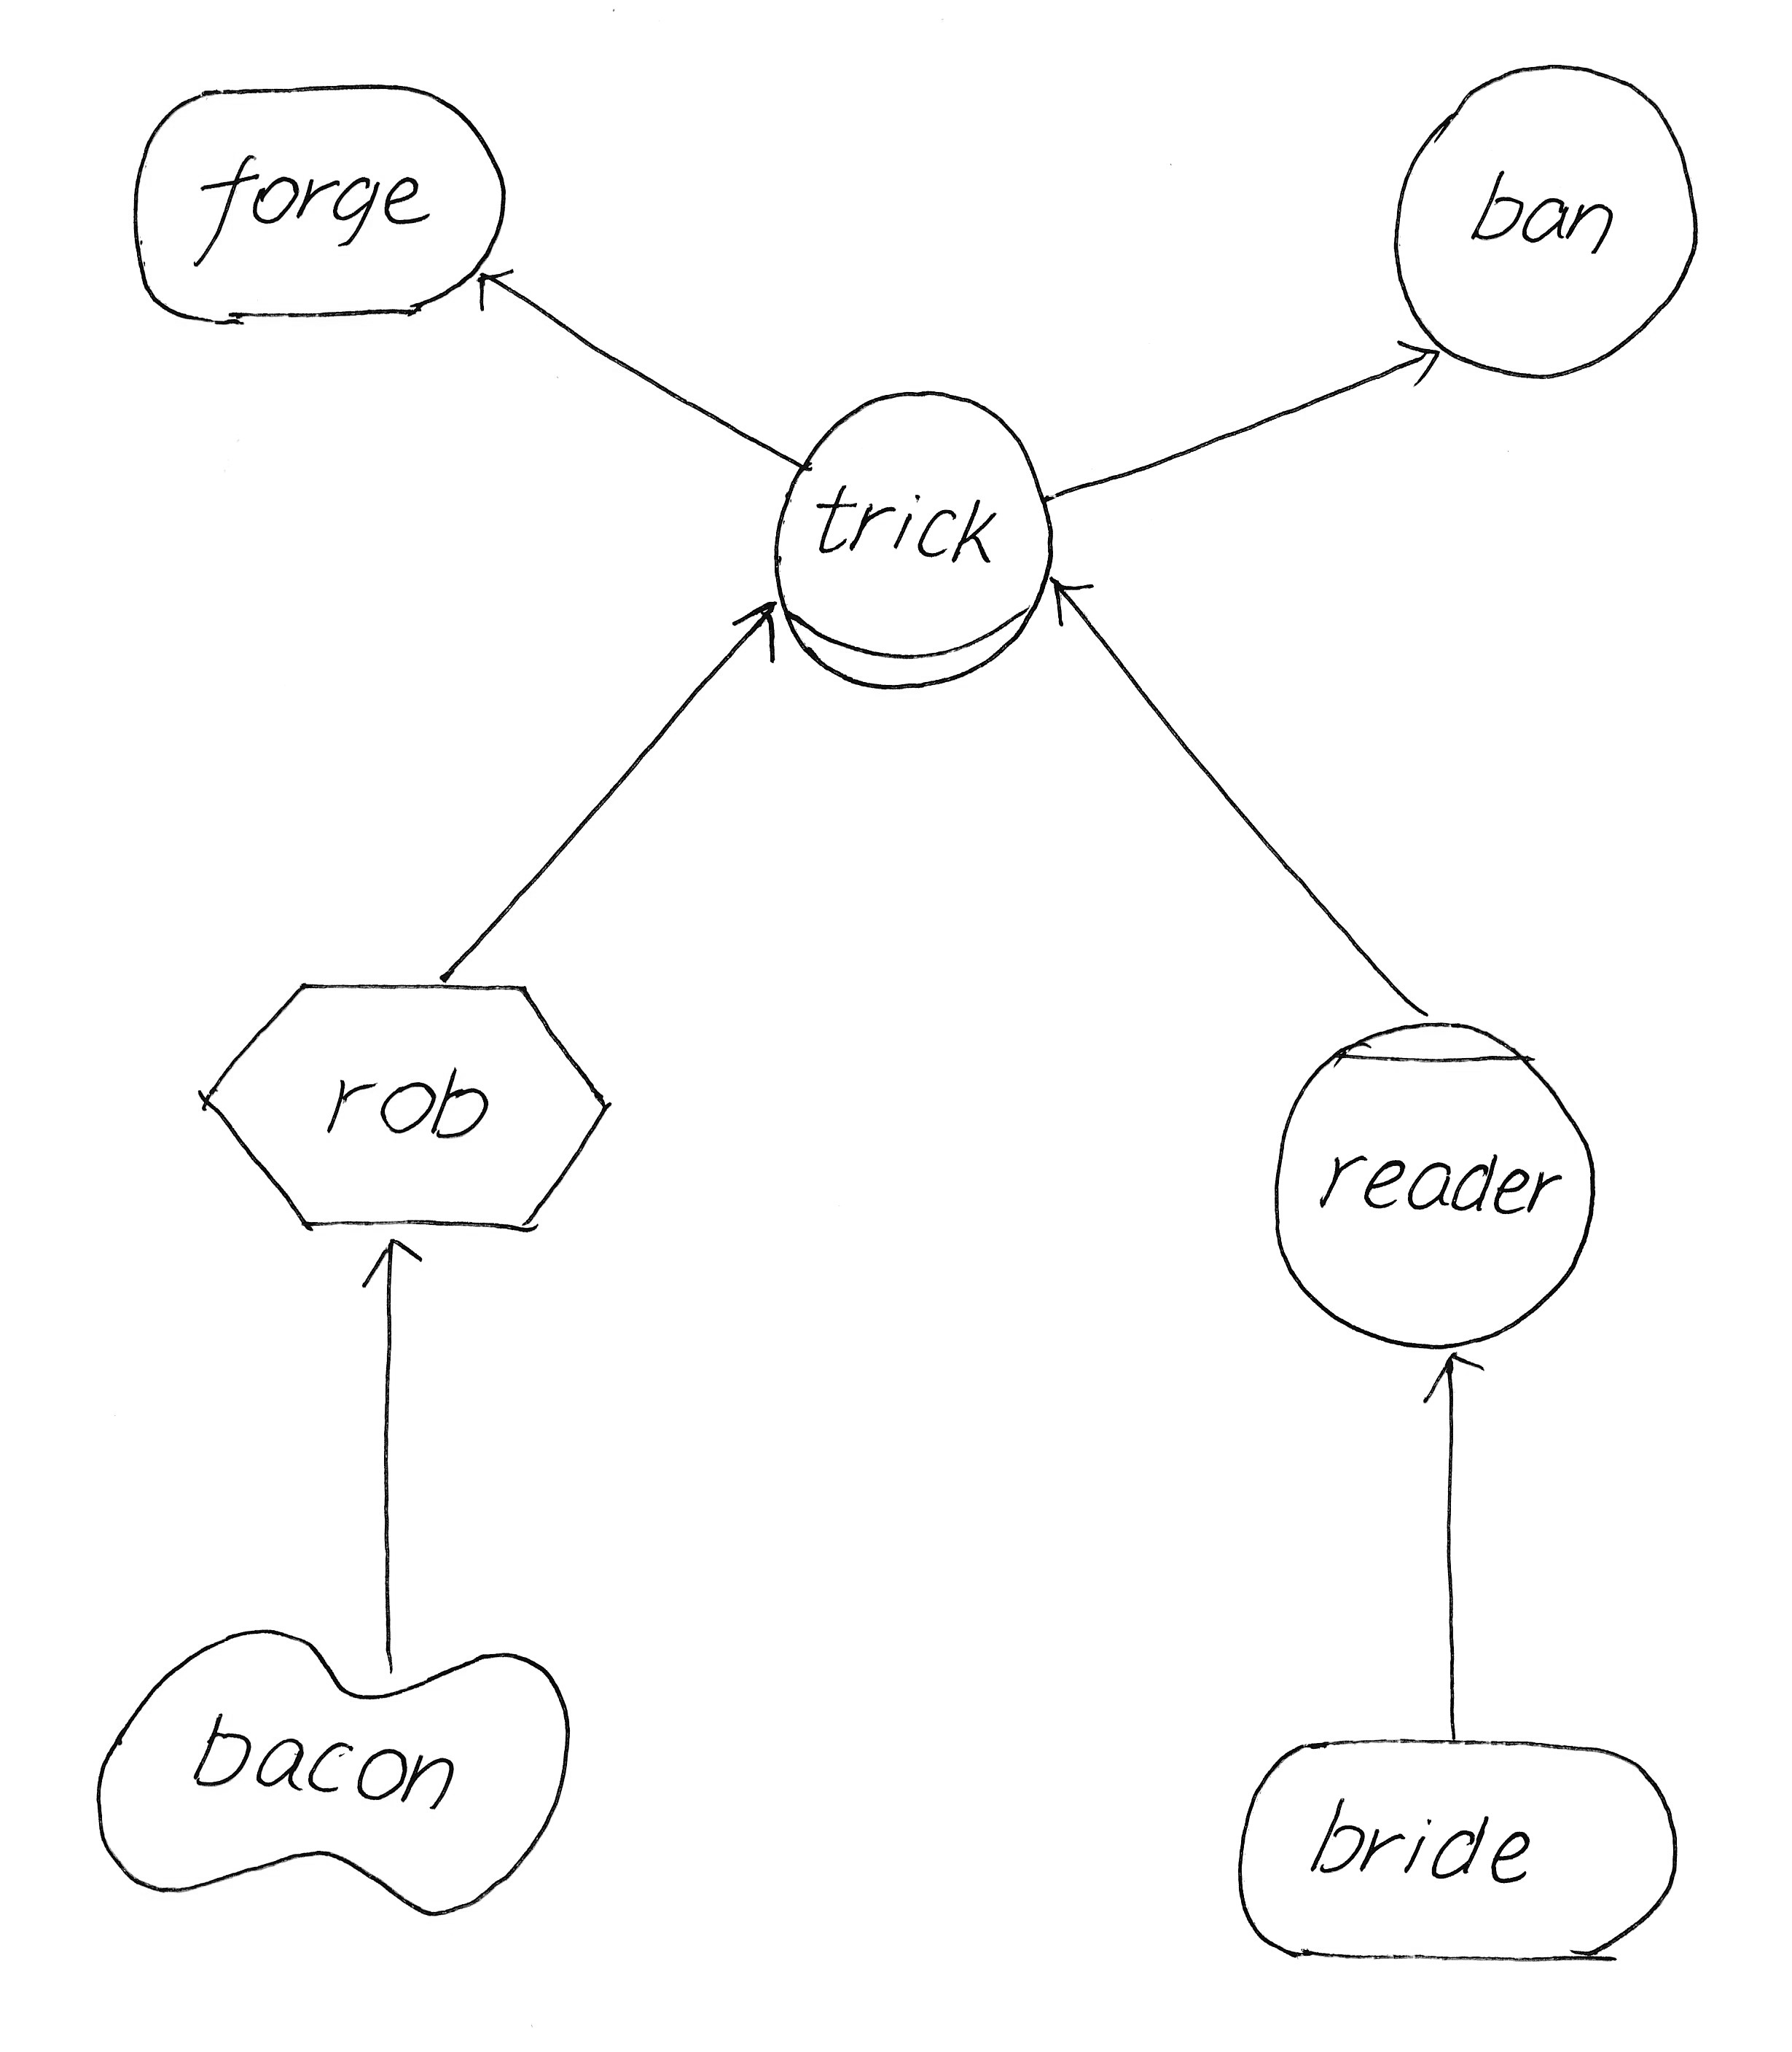actor: (1377, 45, 1717, 398)
agent: (1256, 1002, 1593, 1352)
arrow: (1377, 316, 1457, 405), (1412, 1335, 1494, 1419), (728, 588, 801, 677), (345, 1227, 433, 1293), (1033, 564, 1106, 637), (461, 260, 534, 321)
goal: (1216, 1717, 1700, 1994), (105, 72, 527, 339)
quality: (77, 1609, 593, 1932)
role: (750, 373, 1073, 698)
task: (185, 961, 633, 1255)
